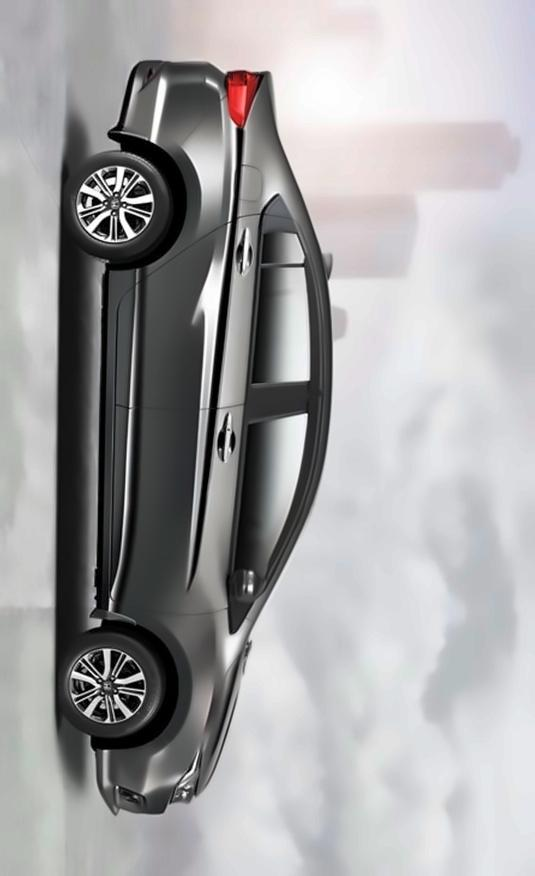Car hood: (194, 640, 248, 809)
Driver-s door - -F-R-: (104, 400, 334, 614)
Fender - -F-R-: (90, 600, 252, 726)
Fender - -R-R-: (103, 95, 286, 274)
Front bumper: (87, 736, 181, 819)
Headlight - -R-: (166, 736, 206, 811)
Passenger-s door - -R-R-: (116, 209, 335, 404)
Rear bumper: (103, 52, 226, 158)
Rear light - -R-: (216, 60, 278, 132)
Side bumper - -R-: (89, 257, 124, 634)
Side mirror - -R-: (216, 556, 280, 610)
